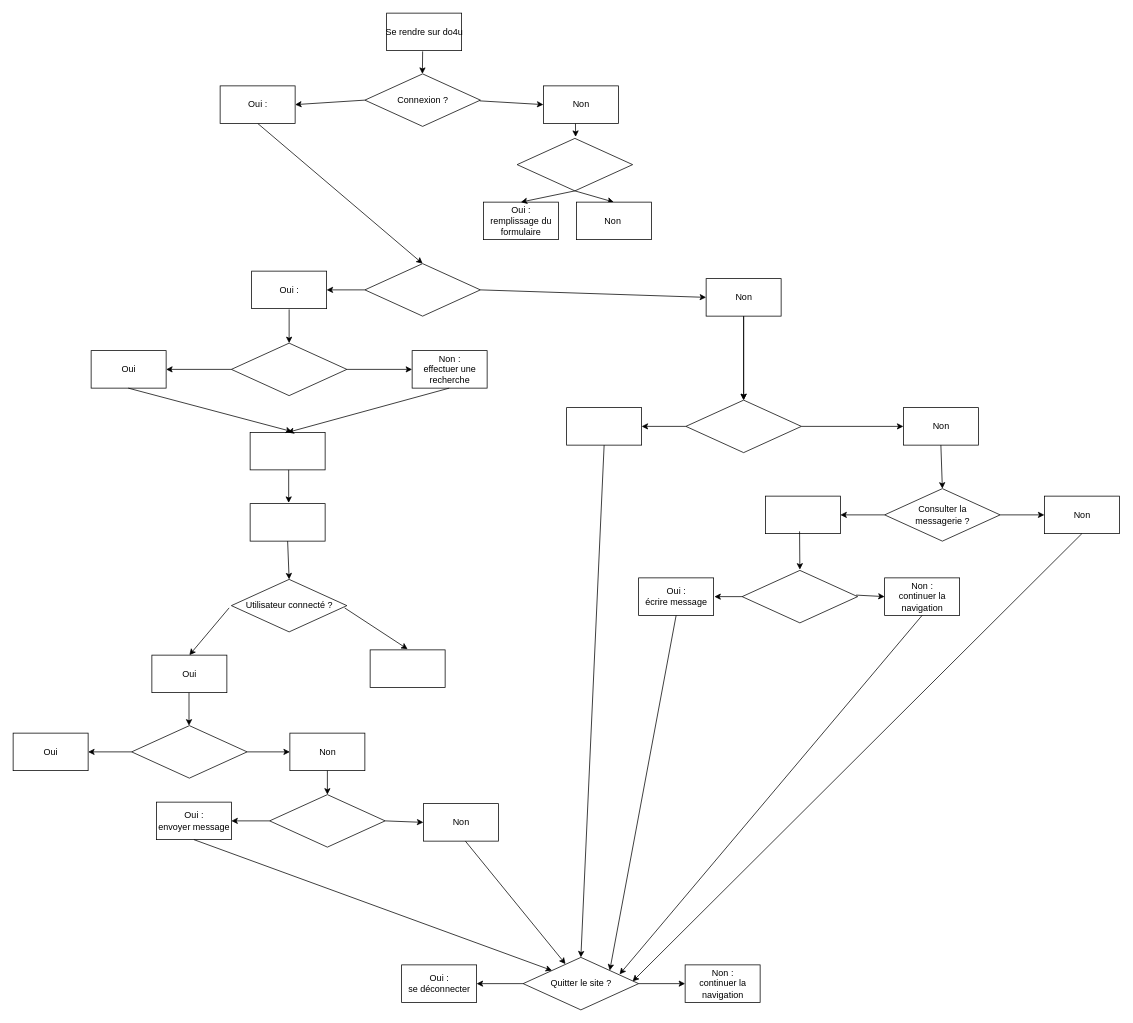
Image size: 1133x1023. Some labels were removed from this diagram. Each missing label, with the centre of its shape:
"Consulter annonces ?" belongs at [422,289].
"Consulter la liste des annonces" belongs at [287,451].
"Consulter le détail d'une annonce" belongs at [287,522].
"Consulter le profil de l'annonceur ?" belongs at [189,751].
"Contacter l'annonceur ?" belongs at [327,820].
"Créer une annonce ?" belongs at [743,426].
"Inscription ?" belongs at [574,164].
"Non : se connecter ou s'sincrire" belongs at [407,668].
"Oui : remplir le formulaire" belongs at [604,426].
"Oui : voir les conversations" belongs at [802,514].
"Par catégorie ?" belongs at [289,369].
"Répondre aux messages ?" belongs at [799,596].
